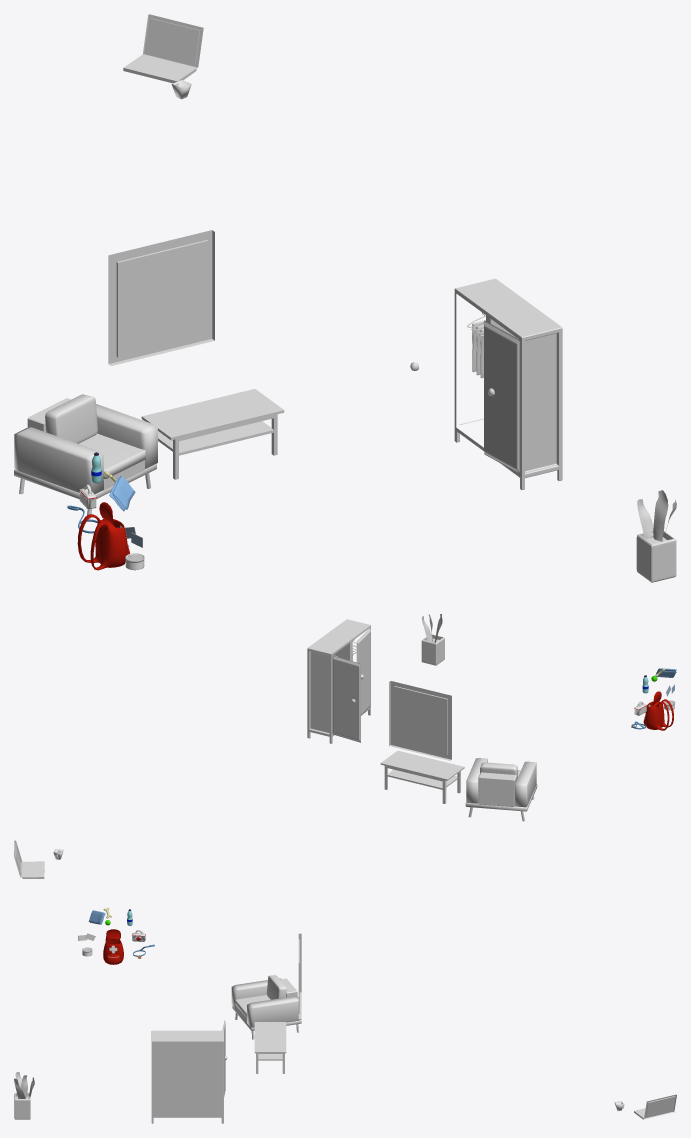
Rendered from estacion-sismo.glb.
3 renders of one model, top to bottom at view 1: azimuth 30°, elevation 25°; view 2: azimuth 150°, elevation 25°; view 3: azimuth 270°, elevation 25°, orthographic. The views are drawn at different scales.
Parts seen in each view (by area): view 1: cuadro2, sillon, Cube.008, mesita, Cube.010, computador, matera3.002, maletin-d; view 2: cuadro2, Cube.008, sillon, Cube.007, mesita, Cube.010, matera3.002, maletin-d, computador; view 3: Cube.008, sillon, mesita, matera3.002, computador, maletin-d, cuadro2.
Part boxes in pixels (x1,y1,x2,y2): cuadro2: [108, 230, 214, 365]; sillon: [14, 394, 157, 518]; Cube.008: [454, 278, 562, 490]; mesita: [141, 389, 284, 479]; Cube.010: [484, 320, 520, 473]; computador: [123, 14, 203, 83]; matera3.002: [636, 490, 676, 582]; maletin-d: [77, 514, 127, 570]; cuadro2: [389, 681, 451, 760]; Cube.008: [307, 619, 370, 743]; sillon: [465, 758, 537, 821]; Cube.007: [332, 655, 360, 742]; mesita: [380, 750, 464, 803]; Cube.010: [356, 628, 370, 715]; matera3.002: [421, 614, 444, 665]; maletin-d: [645, 699, 673, 730]; computador: [14, 840, 44, 878]; Cube.008: [151, 1030, 223, 1123]; sillon: [231, 975, 301, 1039]; mesita: [254, 1022, 286, 1073]; matera3.002: [14, 1072, 34, 1119]; computador: [634, 1094, 676, 1119]; maletin-d: [103, 936, 123, 964]; cuadro2: [298, 933, 301, 1019].
Size of the model in its own units: 5.95 by 1.84 by 10.29.
18 materials, 1 textured.
